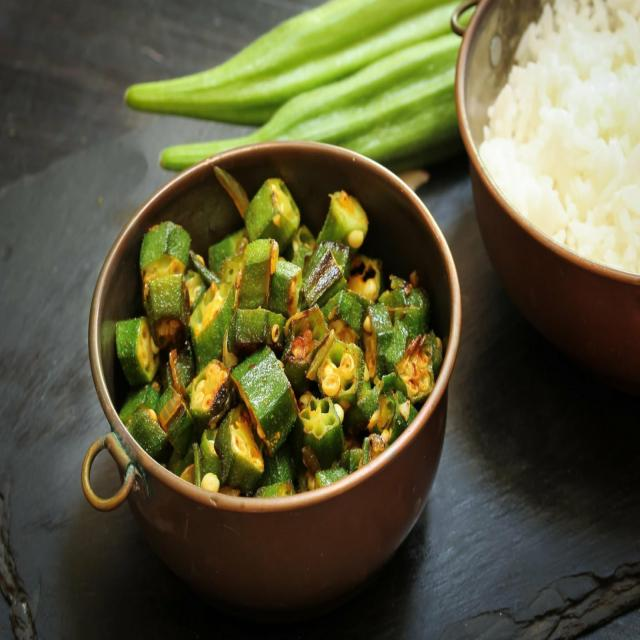BhindiMasala: (115, 166, 442, 498)
rice: (477, 0, 640, 275)
